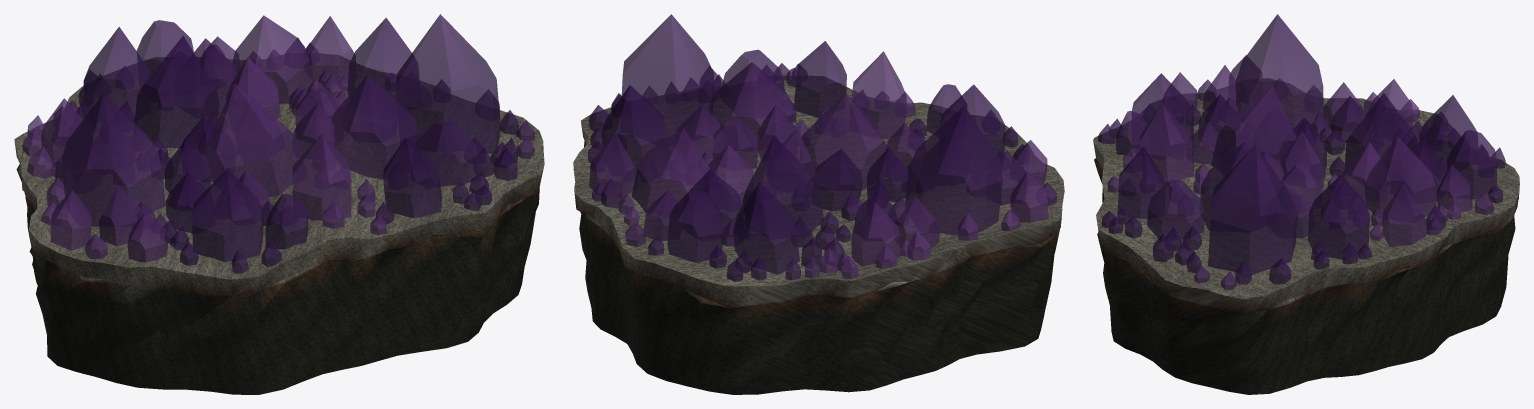
The model's file is specimen.glb.
3 renders of one model, left to right at view 1: azimuth 30°, elevation 25°; view 2: azimuth 150°, elevation 25°; view 3: azimuth 270°, elevation 25°, orthographic. The views are drawn at different scales.
Parts seen in each view (by area): view 1: layered-host, amethyst-growth; view 2: layered-host, amethyst-growth; view 3: layered-host, amethyst-growth.
Boxes of the visible parts, x1=… form: layered-host: x1=14, y1=53, x2=544, y2=394; amethyst-growth: x1=22, y1=14, x2=534, y2=273; layered-host: x1=573, y1=76, x2=1064, y2=394; amethyst-growth: x1=588, y1=14, x2=1057, y2=281; layered-host: x1=1093, y1=78, x2=1519, y2=394; amethyst-growth: x1=1098, y1=14, x2=1505, y2=289.
Bounding box in the file's own units: 0.0424 × 0.0207 × 0.0362.
2 materials, 1 textured.
